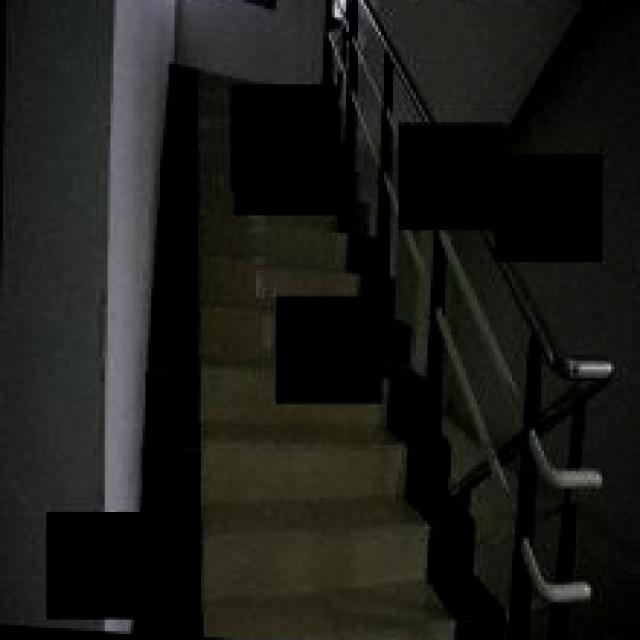upstair: (166, 431, 510, 640)
